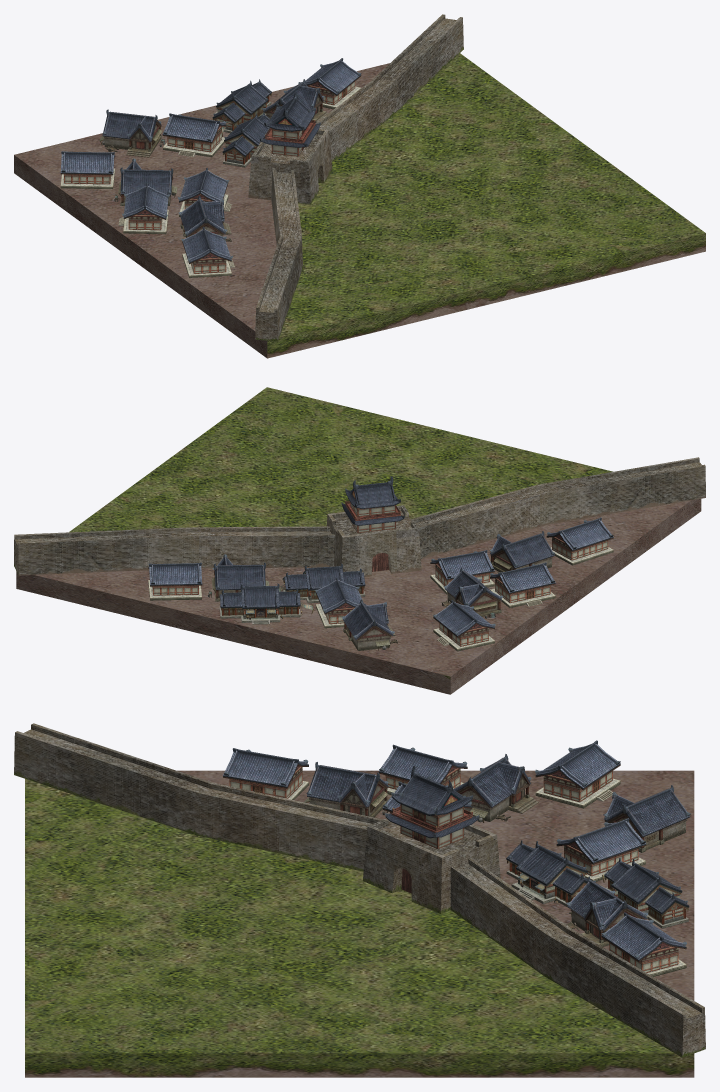
Rendered from map020.FBX.
The picture shows the model from 3 angles, top to bottom: view 1: azimuth 30°, elevation 25°; view 2: azimuth 150°, elevation 25°; view 3: azimuth 270°, elevation 25°; orthographic projection. The views are drawn at different scales.
Visible parts, largest first — view 1: map020, house304, Box092, Box091, house307, house302, house313; view 2: map020, Box092, Box091, house304, house307, house302, house313; view 3: map020, Box092, Box091, house304, house307, house302, house313.
Boxes of the visible parts, x1,y1,x2,y2 form: map020: (14, 53, 705, 358); house304: (60, 58, 361, 277); Box092: (248, 128, 332, 341); Box091: (316, 14, 463, 161); house307: (99, 79, 328, 241); house302: (212, 79, 271, 167); house313: (260, 92, 320, 156); map020: (16, 387, 701, 694); Box092: (326, 457, 705, 576); Box091: (14, 526, 335, 575); house304: (148, 517, 613, 651); house307: (208, 531, 555, 650); house302: (219, 563, 365, 624); house313: (341, 476, 404, 532); map020: (25, 770, 694, 1077); Box092: (14, 723, 500, 913); Box091: (450, 858, 705, 1057); house304: (223, 740, 686, 976); house307: (304, 754, 690, 946); house302: (506, 840, 689, 928); house313: (385, 766, 479, 848).
Bounding box in the file's own units: 103 × 22.49 × 103.
